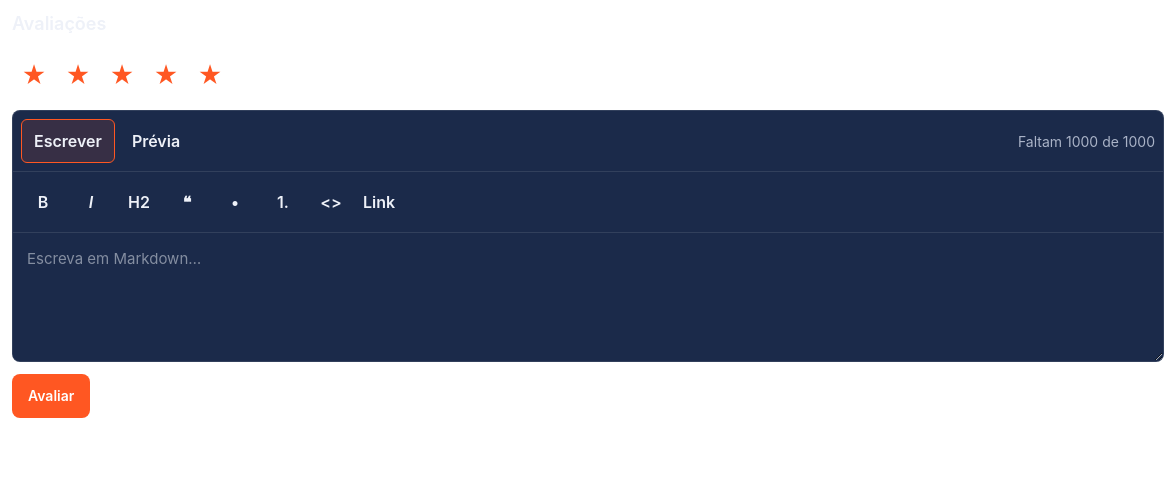
RatingSection › mantem o guard de 403 com explicacao visivel
The image size is (1176, 493).
Click the button "Avaliar" at coordinates (51, 396), box [12,374,90,418]
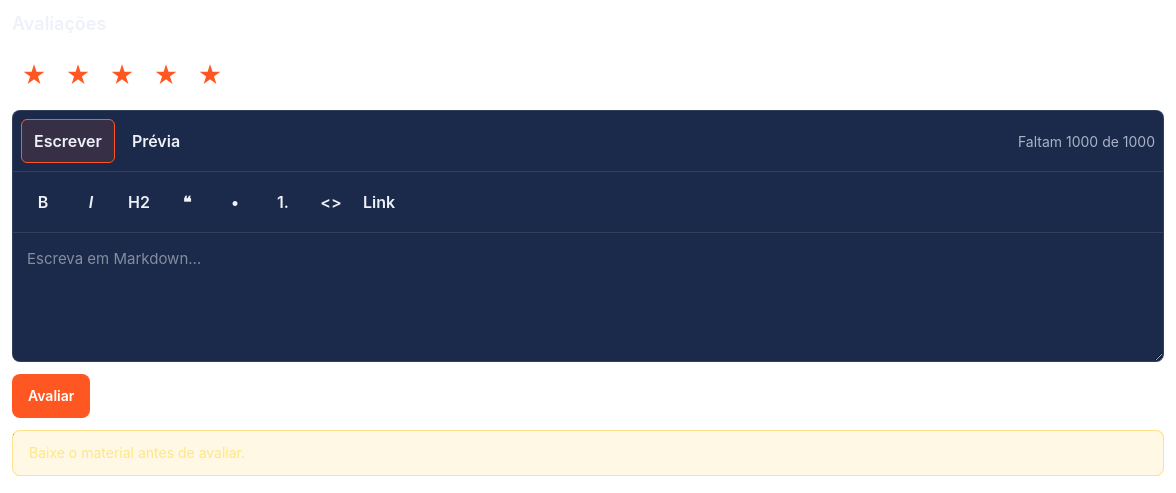
Expected: the message reads "Baixe o material antes de avaliar.", [29,444,245,461]
